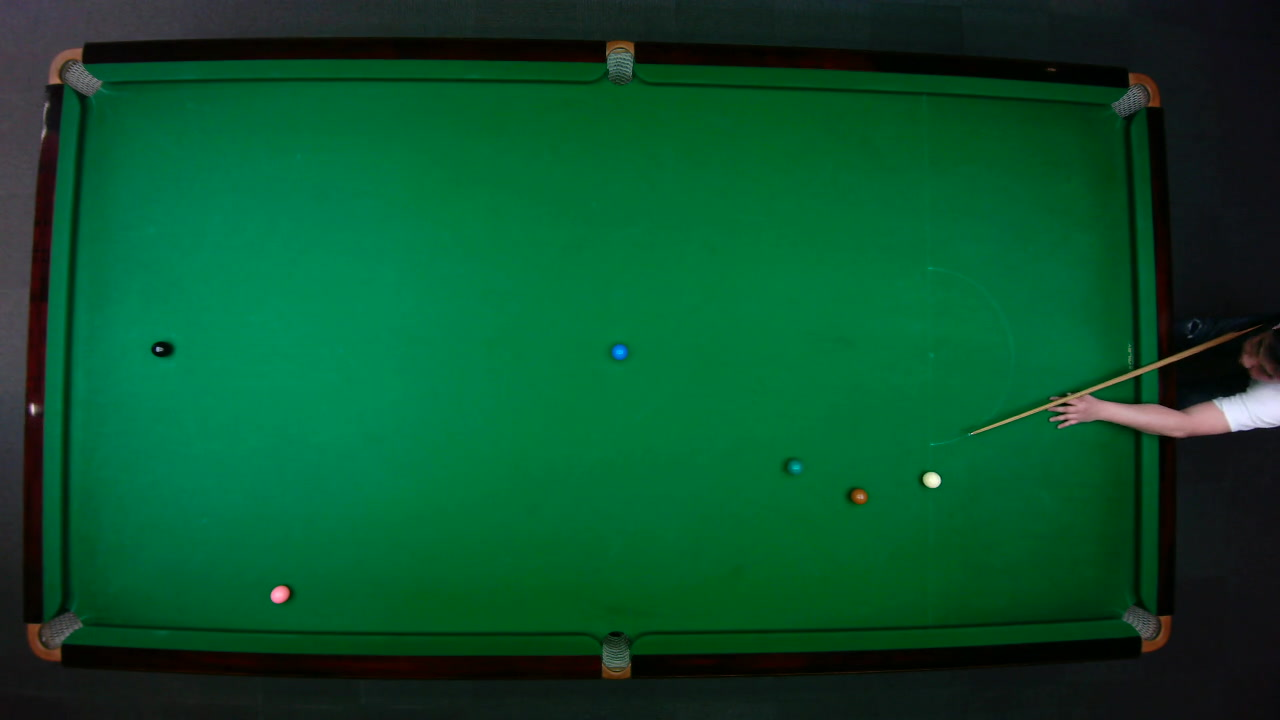bag: (25, 609, 83, 661), (46, 47, 102, 96), (1119, 603, 1171, 652), (1108, 72, 1161, 118), (601, 629, 630, 680), (605, 38, 633, 85)
black: (149, 339, 171, 357)
blue: (609, 342, 628, 360)
brown: (848, 487, 868, 504)
cue: (927, 317, 1279, 442)
green: (784, 457, 803, 475)
pink: (268, 583, 290, 604)
white: (920, 470, 942, 488)
zone: (927, 265, 1015, 446)
